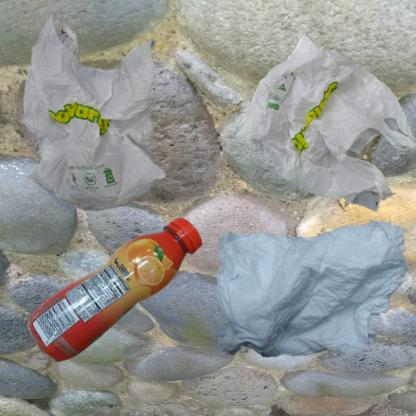bolsa: (213, 10, 416, 249), (10, 10, 189, 226)
botella: (10, 213, 265, 395)
papel: (213, 213, 412, 364)
